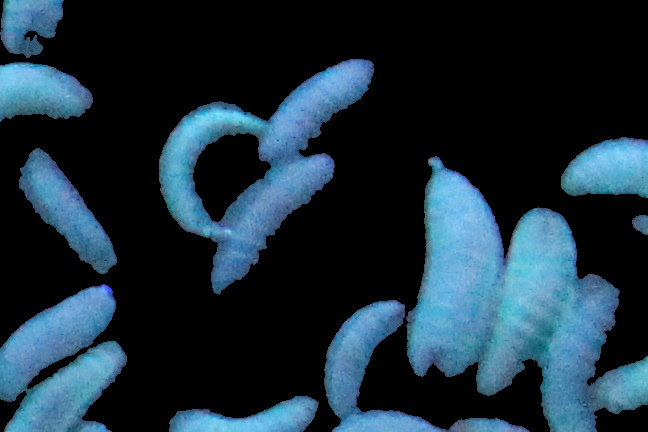larvae: (407, 156, 505, 380), (468, 206, 579, 397), (212, 150, 337, 297), (150, 94, 266, 246), (18, 146, 122, 276), (1, 285, 117, 399), (257, 56, 374, 165), (544, 273, 618, 432), (3, 340, 129, 432), (324, 302, 404, 420), (1, 62, 99, 124), (160, 395, 318, 432), (559, 138, 648, 198), (1, 1, 61, 62), (596, 357, 648, 415), (329, 410, 445, 432)
